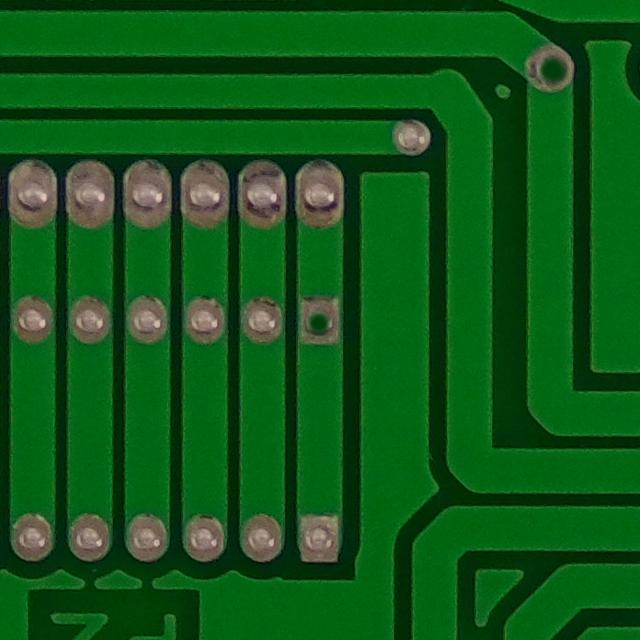missing_hole: (519, 33, 581, 103), (292, 290, 346, 353)
